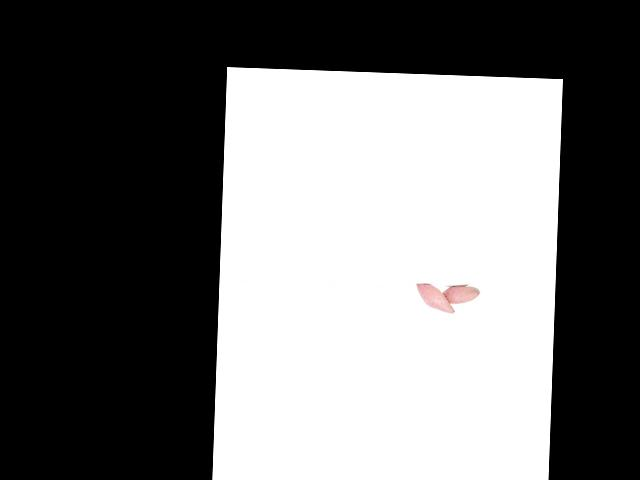sweet_potato: (438, 284, 481, 307)
